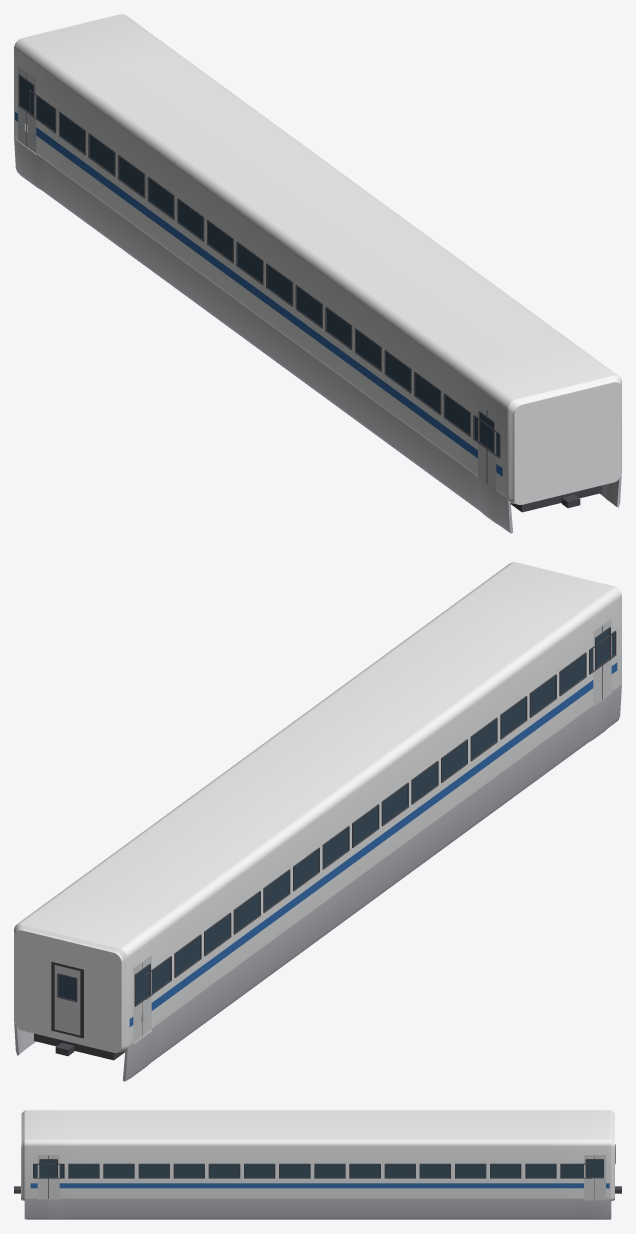
The model's file is middle_close.fbx.
3 views of the same model, one above another, from view 1: azimuth 30°, elevation 25°; view 2: azimuth 150°, elevation 25°; view 3: azimuth 270°, elevation 25° (orthographic). The views are drawn at different scales.
Visible parts, largest first — view 1: 23_middle_close; view 2: 23_middle_close; view 3: 23_middle_close.
Part boxes in pixels (x1,y1,x2,y2): 23_middle_close: (14, 14, 621, 533); 23_middle_close: (14, 562, 621, 1081); 23_middle_close: (14, 1110, 621, 1219).
Size of the model in its own units: 3.39 by 3.72 by 25.6.
